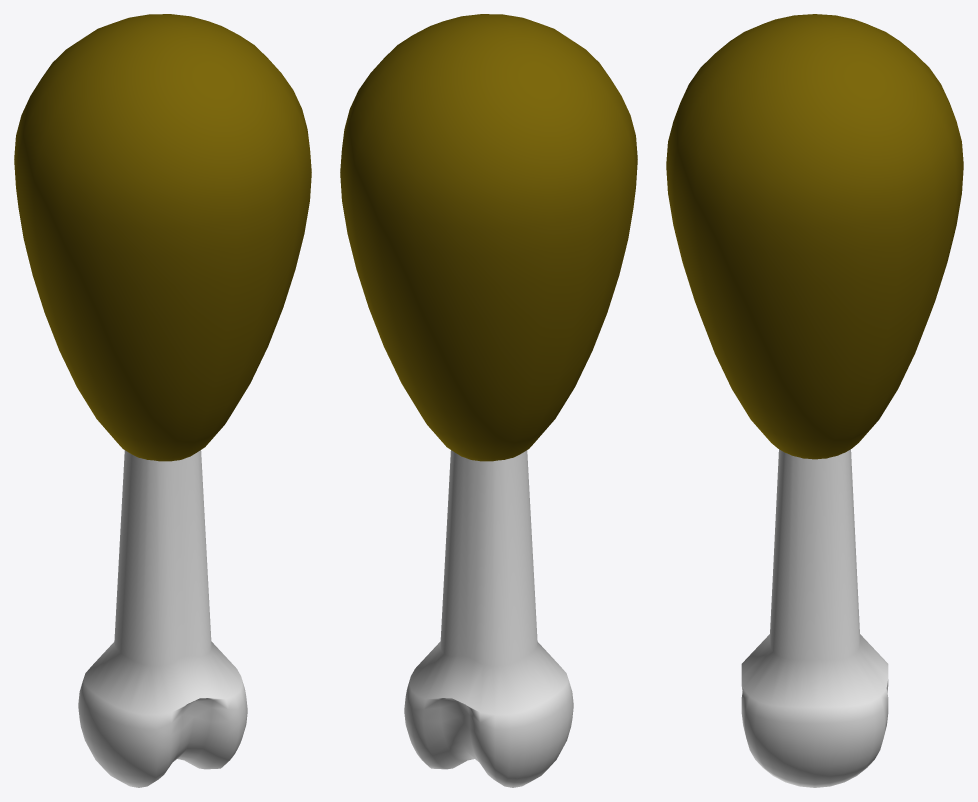
File: food.fbx
3 views of the same model, side by side, from view 1: azimuth 30°, elevation 25°; view 2: azimuth 150°, elevation 25°; view 3: azimuth 270°, elevation 25° (orthographic).
Visible parts, largest first — view 1: pSphere1, pCube1; view 2: pSphere1, pCube1; view 3: pSphere1, pCube1.
Part boxes in pixels (<box>): pSphere1: <box>14,14,311,461</box>; pCube1: <box>78,450,247,787</box>; pSphere1: <box>340,14,637,461</box>; pCube1: <box>404,450,573,787</box>; pSphere1: <box>666,14,963,459</box>; pCube1: <box>741,449,888,787</box>.
Bounding box in the file's own units: 7.65 × 20.98 × 7.65.
